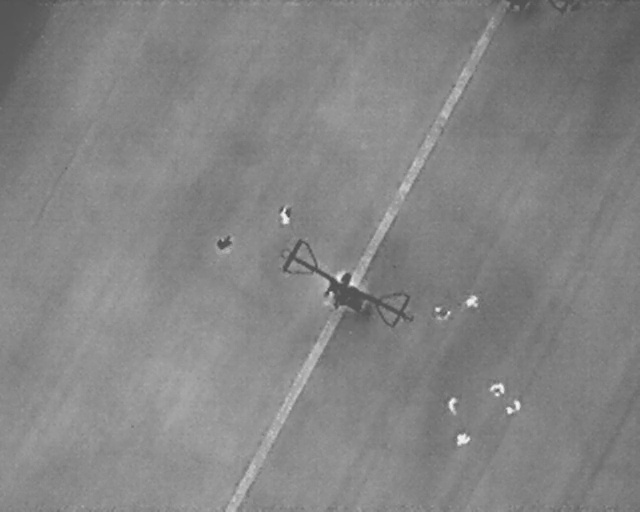Person: (501, 397, 524, 416), (214, 235, 234, 251), (432, 306, 452, 321), (279, 204, 292, 227), (455, 430, 471, 447), (490, 380, 505, 398), (463, 293, 479, 308), (447, 395, 459, 415)
